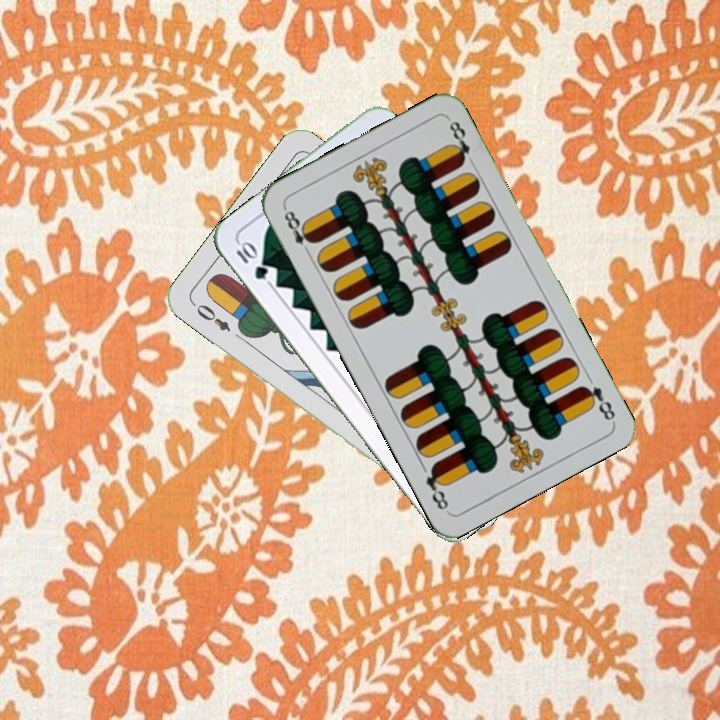E8: (279, 204, 318, 259), (577, 381, 618, 424)
EO: (192, 300, 234, 335)
G10: (232, 237, 271, 283)
